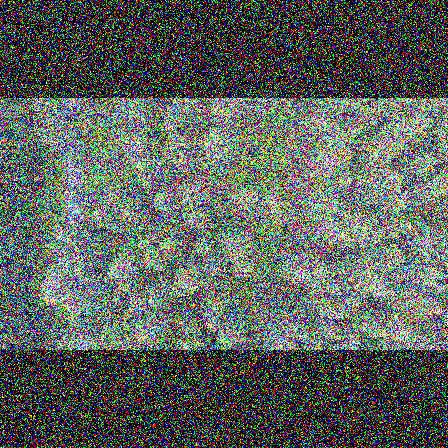Sick: (408, 225, 448, 262), (287, 258, 318, 289), (310, 106, 338, 134), (123, 133, 150, 160), (393, 322, 420, 347), (68, 250, 93, 271), (264, 190, 285, 211)
